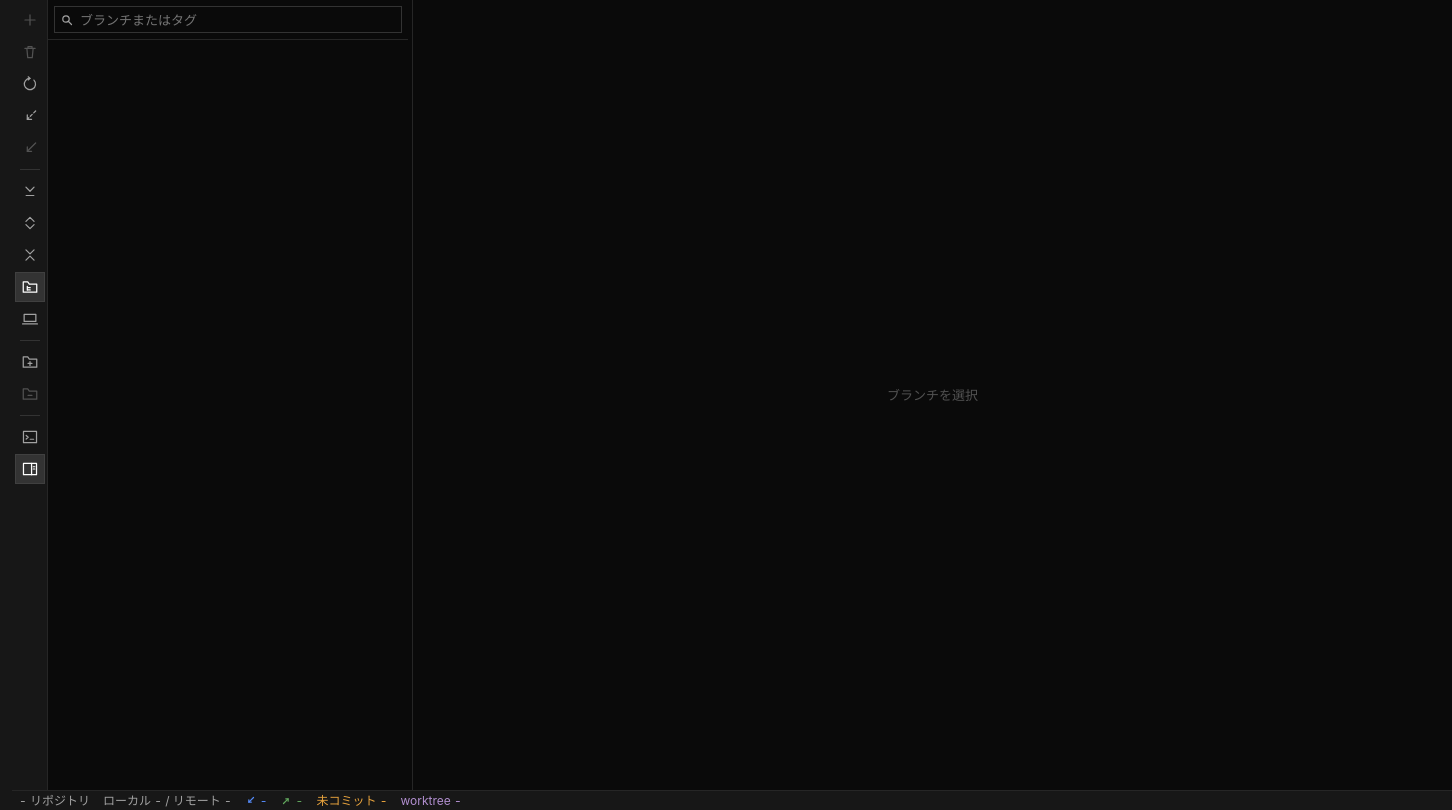
Test: 詳細パネルの配線 › もう一度押すと戻り、表示したことを伝える
The width and height of the screenshot is (1452, 810).
Click the button named "詳細パネル" at (30, 469), box [14,454,44,484]
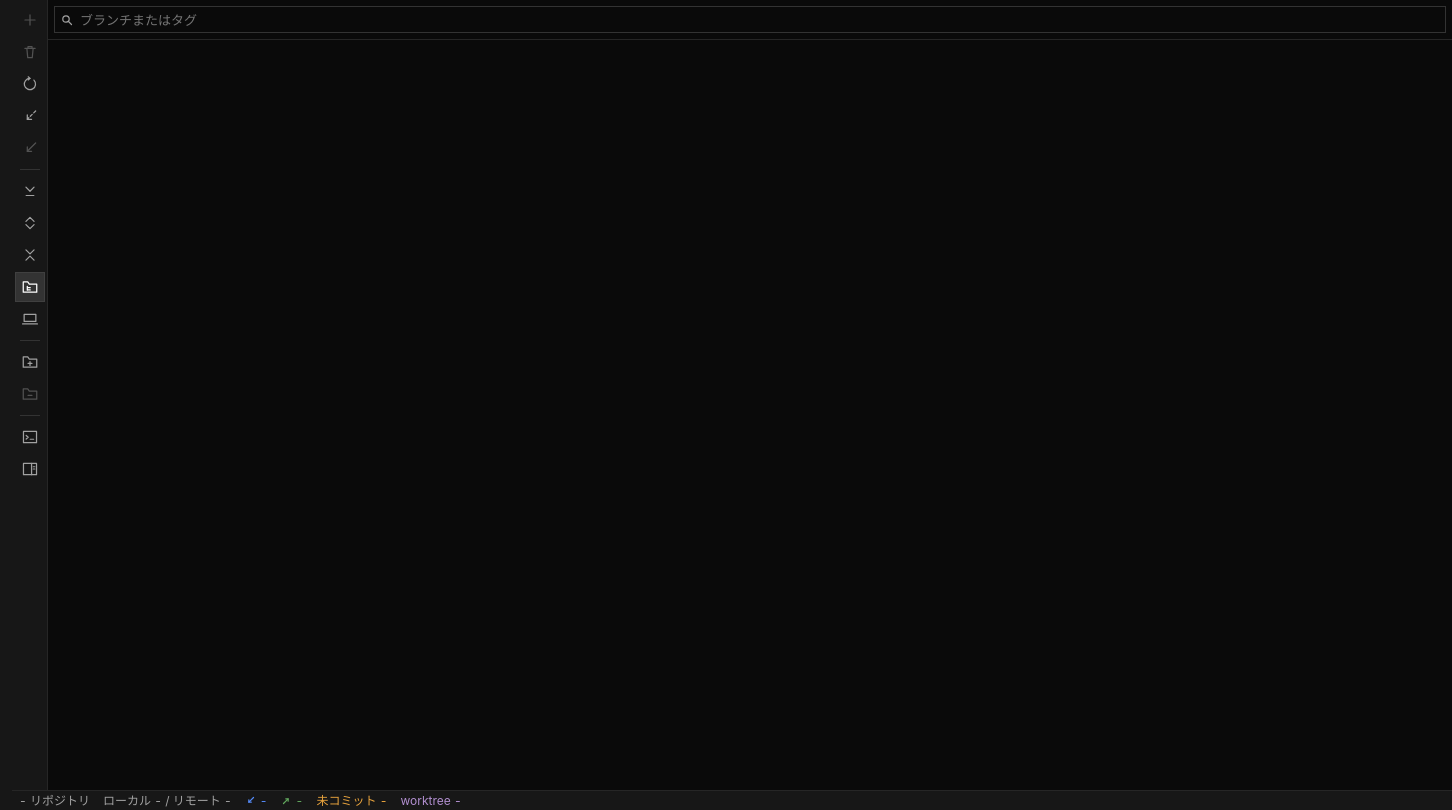
Click the button named "詳細パネル" at (30, 469), box [14,454,44,484]
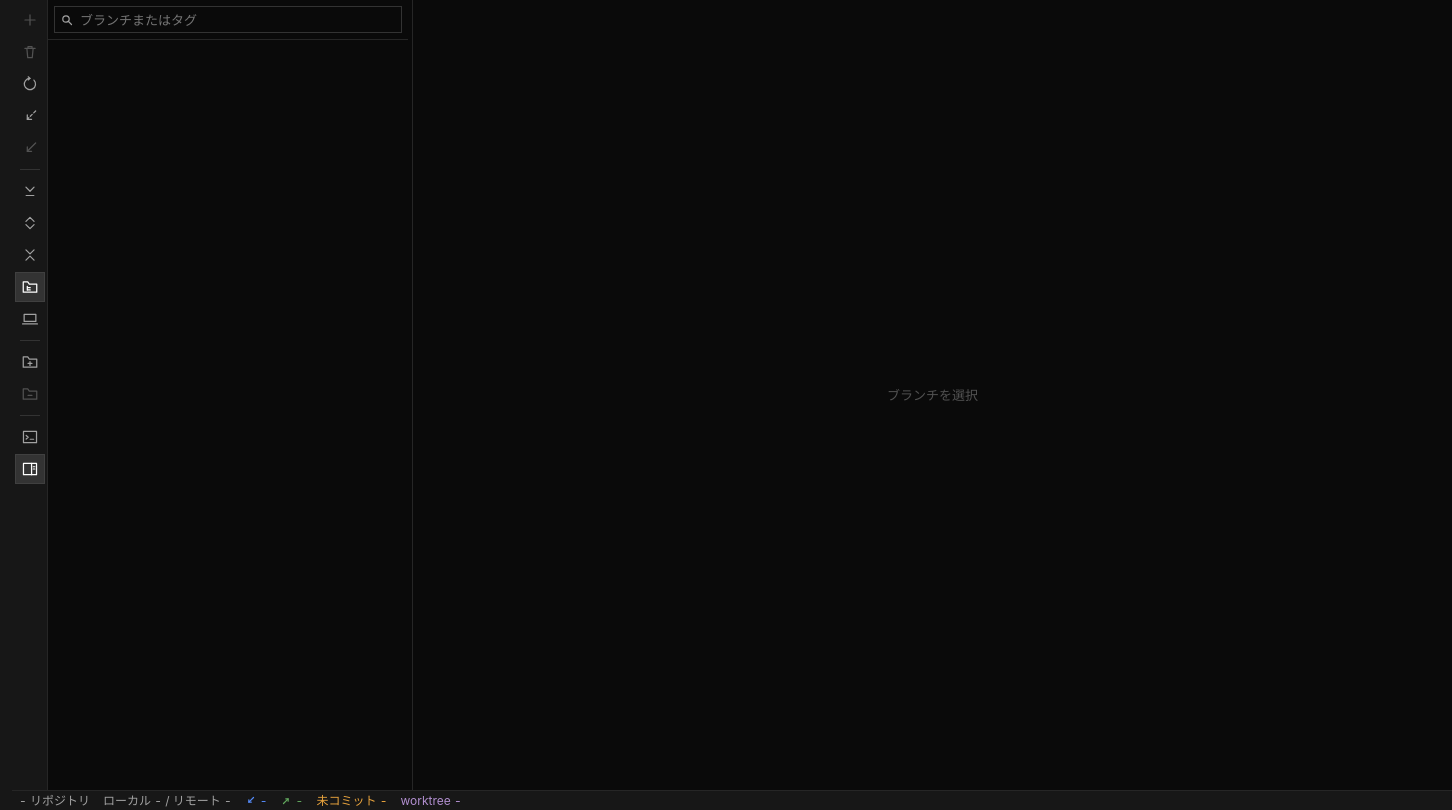
Result: the text "ブランチを選択" is shown at [887,386,978,402]
